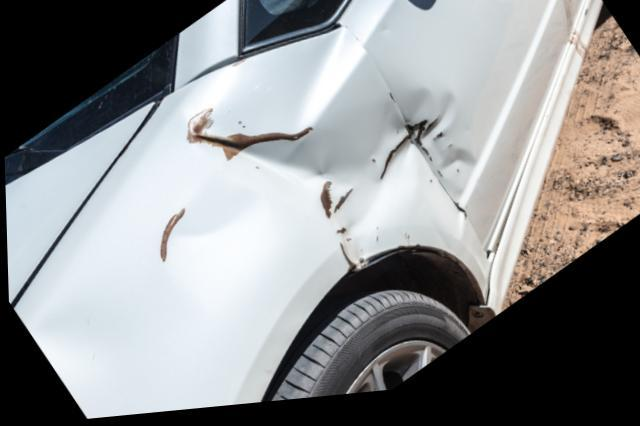dent: (164, 64, 460, 299), (402, 99, 476, 215)
